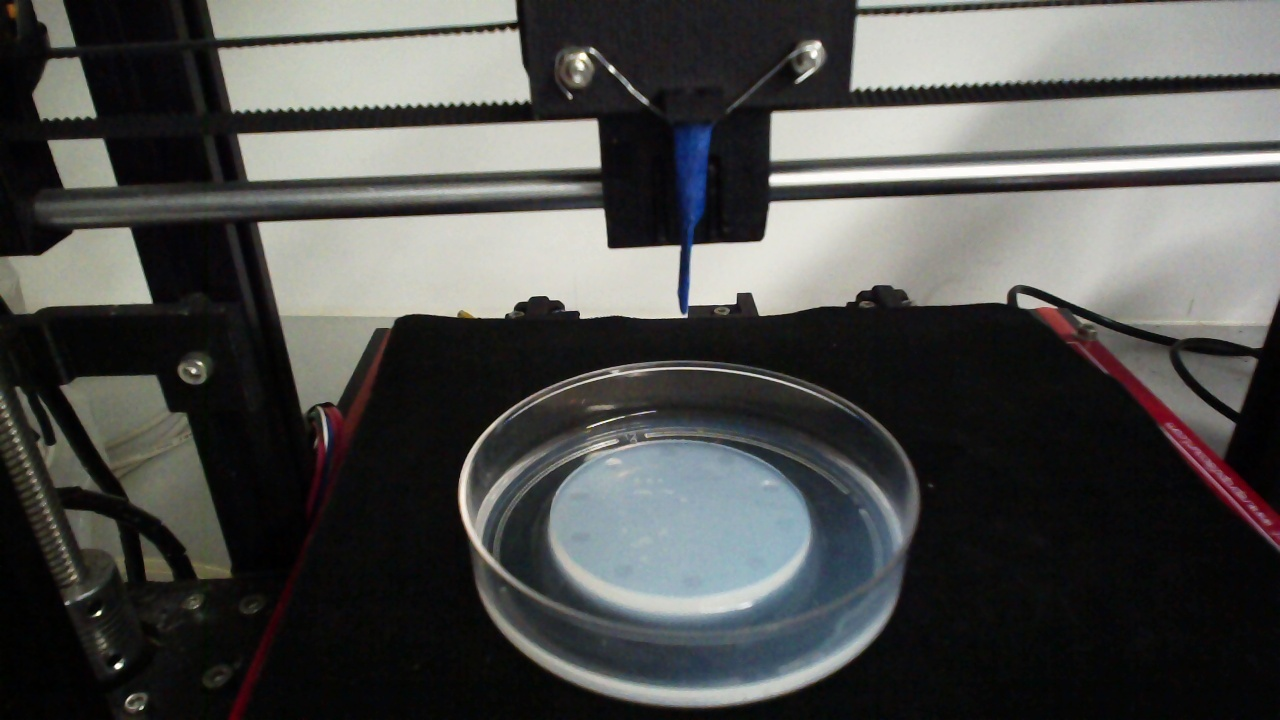groove: (772, 516, 795, 535), (745, 555, 767, 573), (611, 562, 633, 578), (568, 528, 591, 543), (680, 575, 703, 589), (760, 479, 779, 495), (715, 453, 735, 467), (567, 491, 588, 503), (659, 446, 679, 458), (604, 458, 621, 471)
needle: (677, 126, 711, 317)
